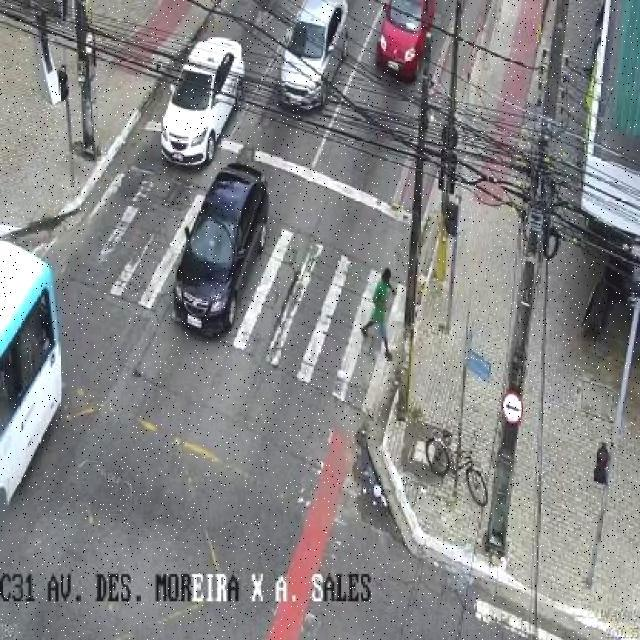Bus: (0, 230, 70, 537)
Car: (169, 165, 275, 341), (158, 34, 249, 170), (276, 0, 346, 118), (378, 0, 435, 88)
Cycle: (426, 435, 496, 508)
